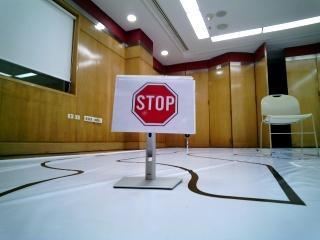stop: (116, 79, 190, 131)
